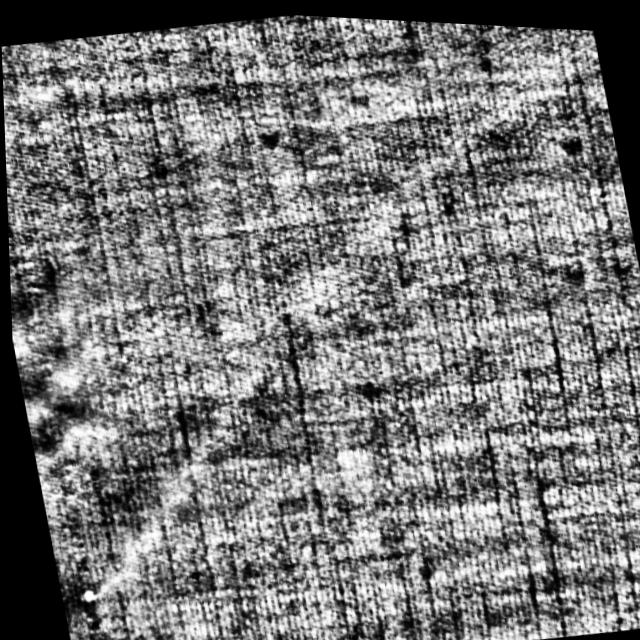Hole: (76, 590, 93, 603)
